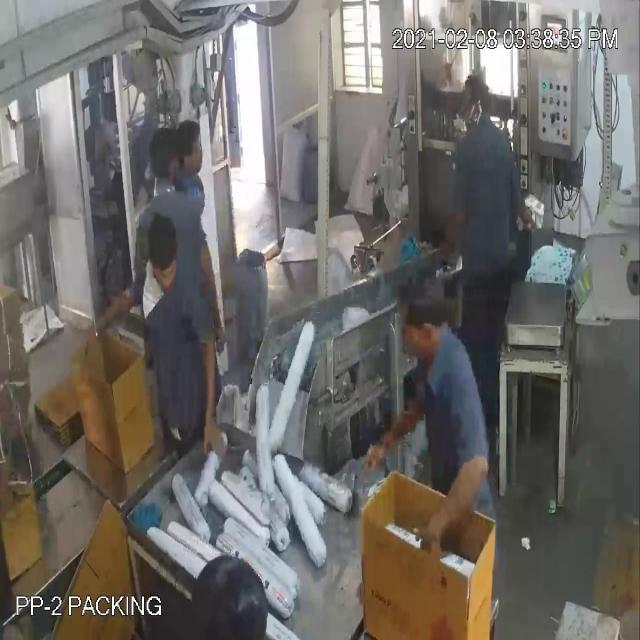No_Gloves: (42, 62, 456, 493)
